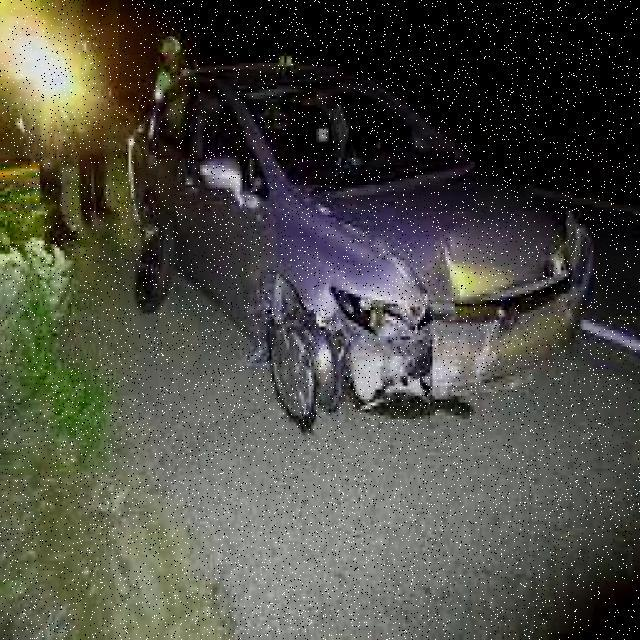car damage: (241, 219, 542, 418)
